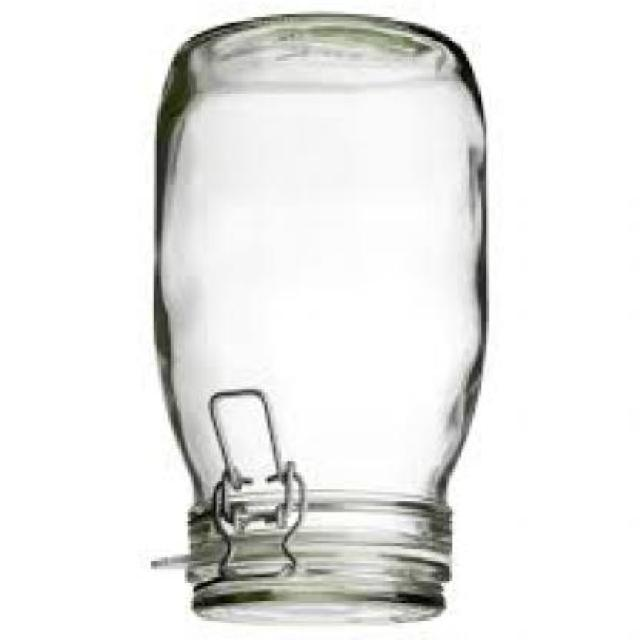GLASS: (157, 20, 492, 629)
